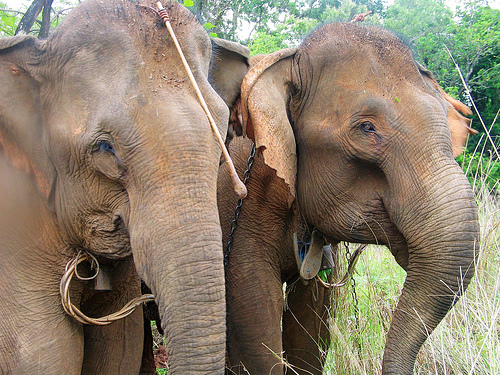elephant: (1, 1, 255, 374), (231, 15, 485, 374)
